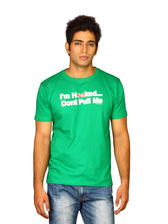clothoes: (36, 68, 131, 191)
